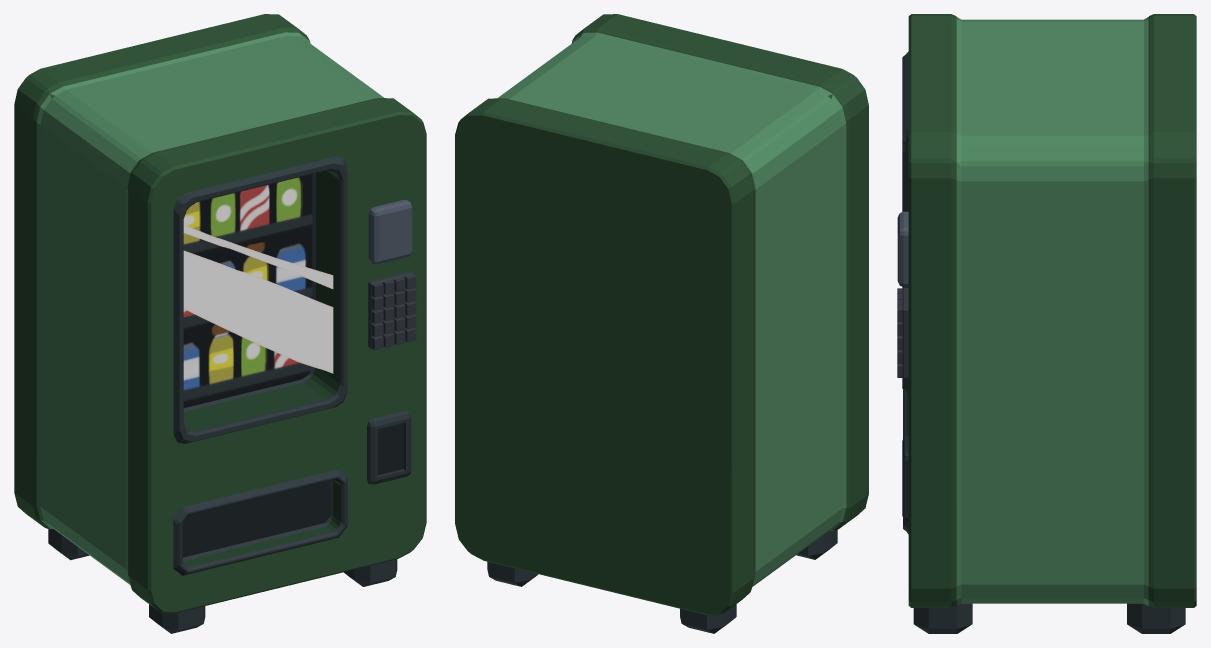
The model's file is 3D_Vending_Machine-Green.fbx.
The picture shows the model from 3 angles, left to right: view 1: azimuth 30°, elevation 25°; view 2: azimuth 150°, elevation 25°; view 3: azimuth 270°, elevation 25°; orthographic projection. The views are drawn at different scales.
Parts seen in each view (by area): view 1: 3D_Vending_Machine-Green; view 2: 3D_Vending_Machine-Green; view 3: 3D_Vending_Machine-Green.
Boxes of the visible parts, x1=… form: 3D_Vending_Machine-Green: x1=14, y1=14, x2=426, y2=633; 3D_Vending_Machine-Green: x1=455, y1=14, x2=868, y2=633; 3D_Vending_Machine-Green: x1=897, y1=14, x2=1196, y2=633.
Bounding box in the file's own units: 1.5 × 2.44 × 1.32.
